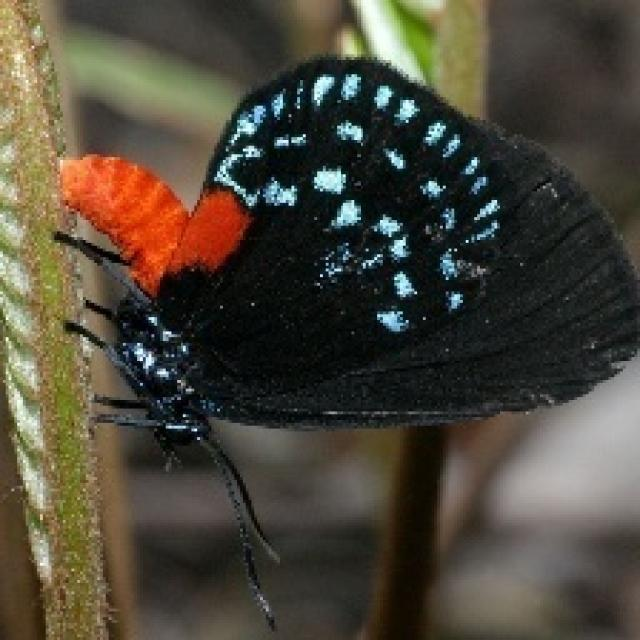butterfly: (60, 57, 638, 627)
